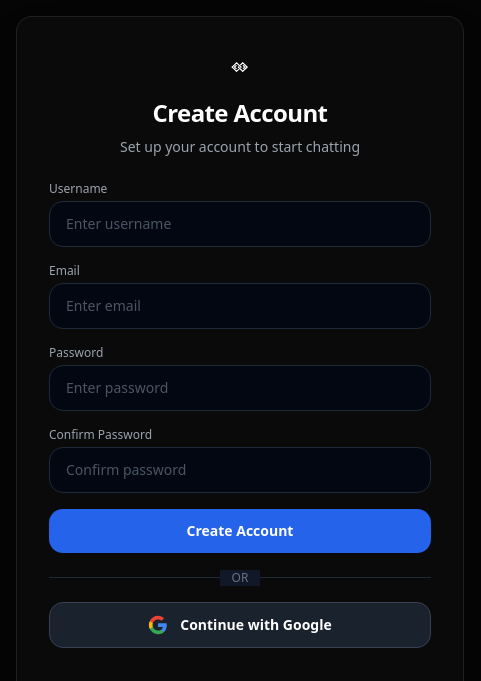
Test: Registration page › rejects a short password
Type "alice" into the field with placeholder "Enter username".
click(240, 224); type("alice")  # box [49,201,431,247]
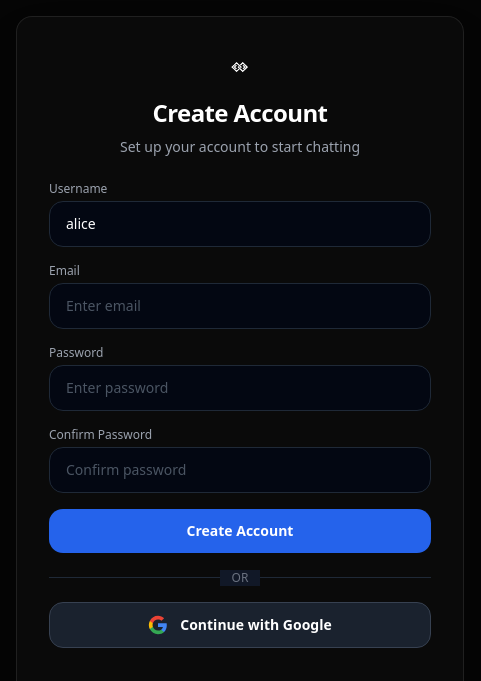
Type "newuser@example.com" into the field with placeholder "Enter email".
click(240, 306); type("newuser@example.com")  # box [49,283,431,329]
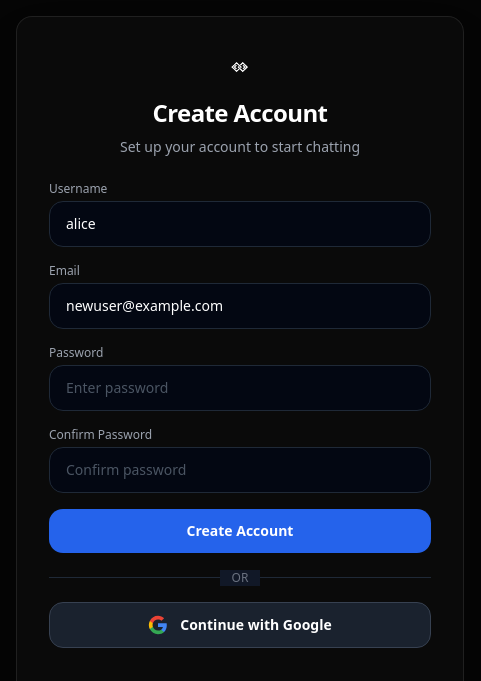
Type "123" into the password field with placeholder "Enter password".
click(240, 388); type("123")  # box [49,365,431,411]
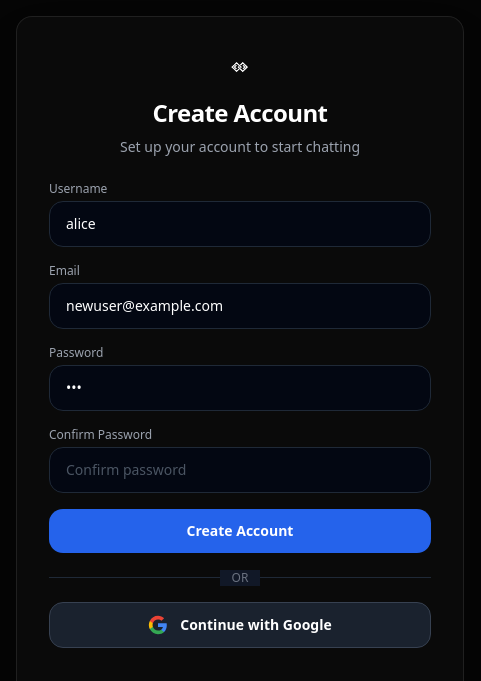
Type "123" into the password field with placeholder "Confirm password".
click(240, 470); type("123")  # box [49,447,431,493]
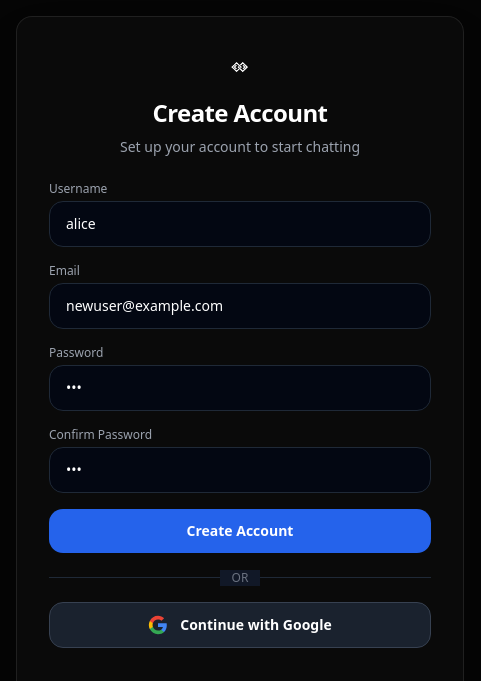
Submit the form with placeholder "Enter username", box [49,181,431,553]
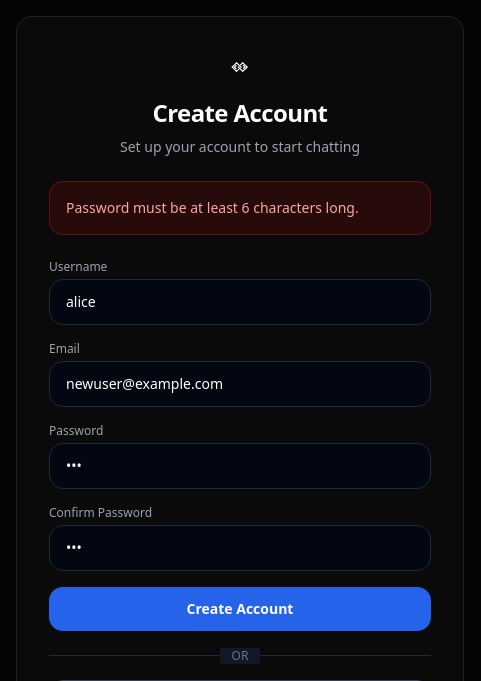
Check: the text "Password must be at least 6 characters long." is shown, box [49,181,431,235]
